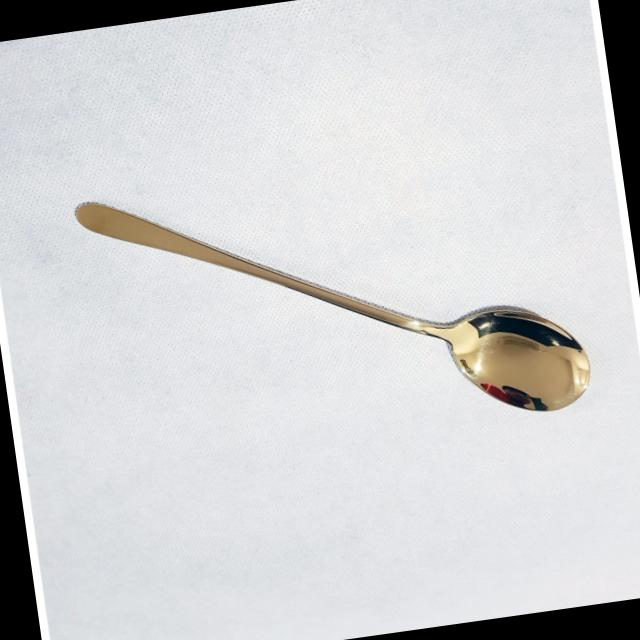spoon: (48, 85, 600, 492)
